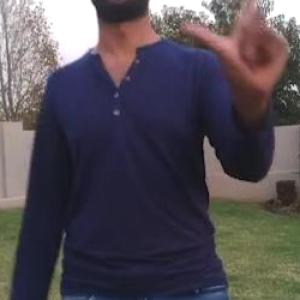land_hand: (176, 0, 297, 117)
